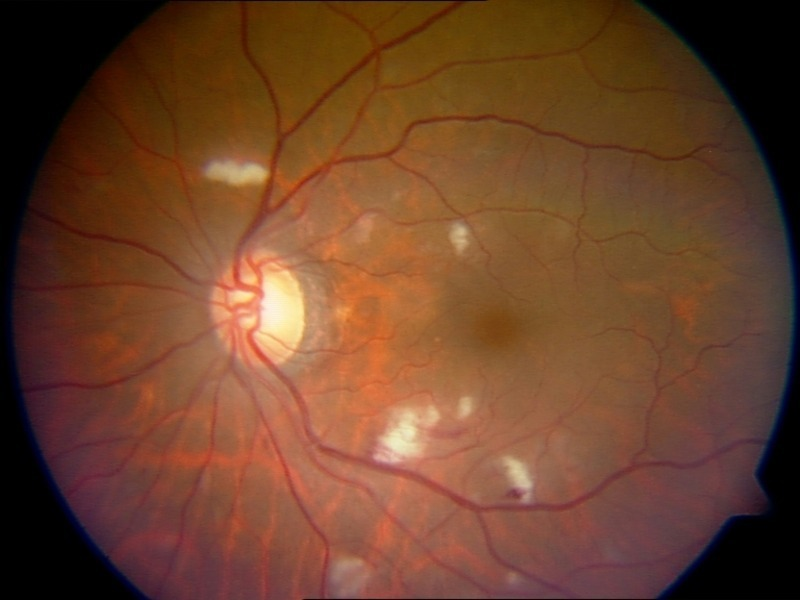Optic Cup: (232, 280, 302, 331)
Optic Disc: (209, 248, 303, 367)
